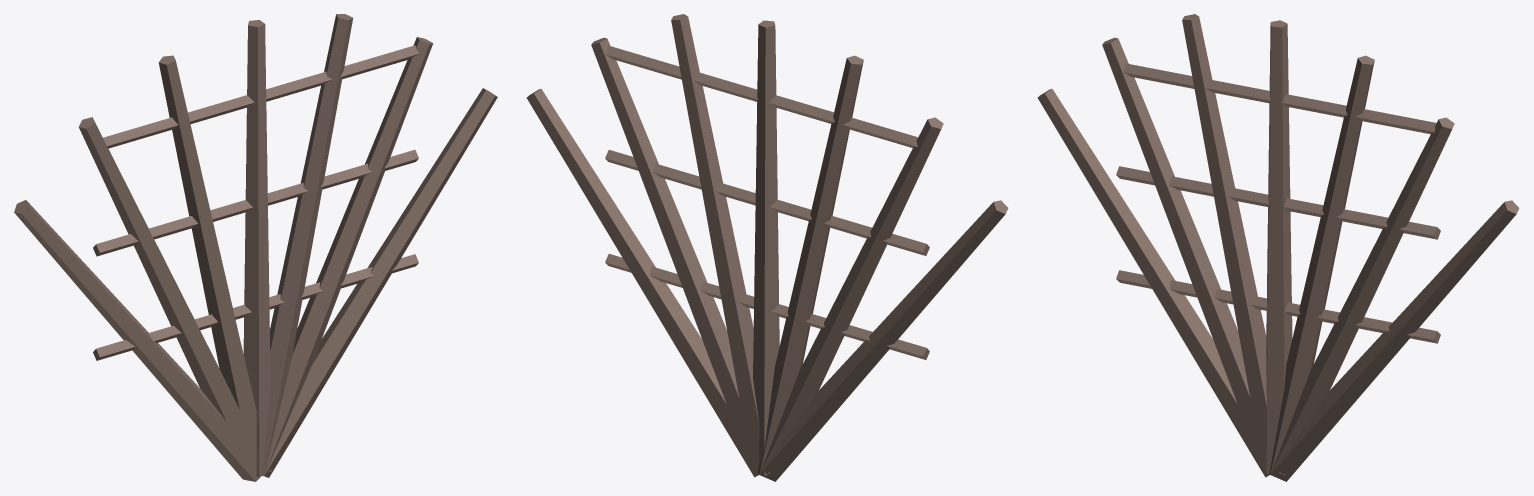
File: coral-fan.glb
3 renders of one model, left to right at view 1: azimuth 30°, elevation 25°; view 2: azimuth 150°, elevation 25°; view 3: azimuth 330°, elevation 25°, orthographic.
Visible parts, largest first — view 1: coral-fan__body; view 2: coral-fan__body; view 3: coral-fan__body.
Boxes of the visible parts, left/top/right/bottom form: coral-fan__body: left=14, top=14, right=497, bottom=481; coral-fan__body: left=526, top=14, right=1008, bottom=481; coral-fan__body: left=1037, top=14, right=1519, bottom=481.
Bounding box in the file's own units: 1.21 × 1.09 × 0.07.
